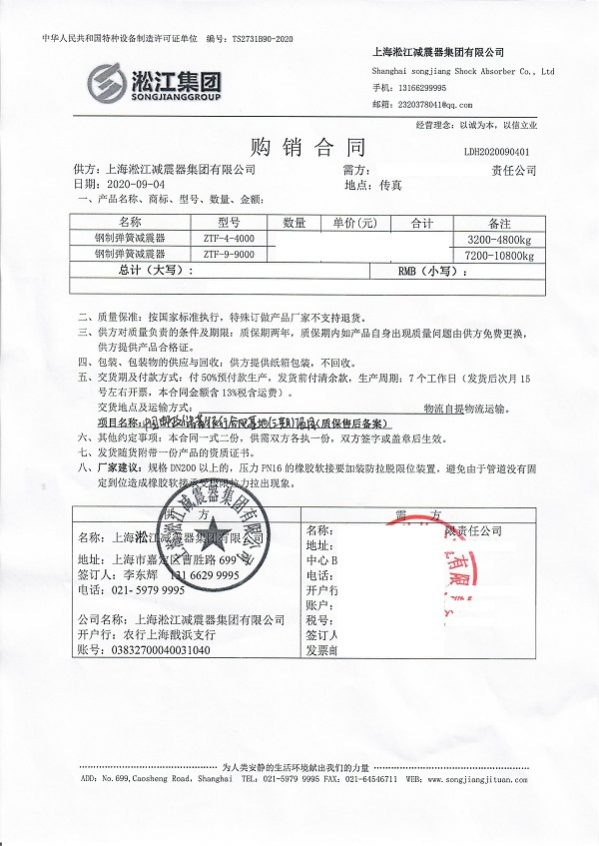Document Title: (251, 135, 366, 158)
Footer: (81, 774, 531, 785), (222, 762, 371, 775)
Header: (37, 31, 298, 45), (369, 43, 505, 59), (372, 65, 555, 76), (416, 118, 540, 131), (372, 98, 473, 109), (372, 82, 449, 94)
Img: (85, 63, 128, 104)
Img Caption: (131, 67, 227, 101)
Seal: (155, 478, 270, 591)
Table: (71, 507, 537, 657), (68, 214, 546, 297)
Text: (77, 372, 533, 430), (75, 460, 538, 493), (75, 325, 529, 352), (77, 431, 448, 443), (75, 310, 367, 324), (76, 355, 357, 368), (76, 444, 261, 461), (73, 162, 256, 175), (76, 194, 267, 206), (70, 177, 167, 189), (342, 177, 403, 193), (462, 147, 529, 157), (493, 164, 537, 178), (341, 162, 374, 176)
